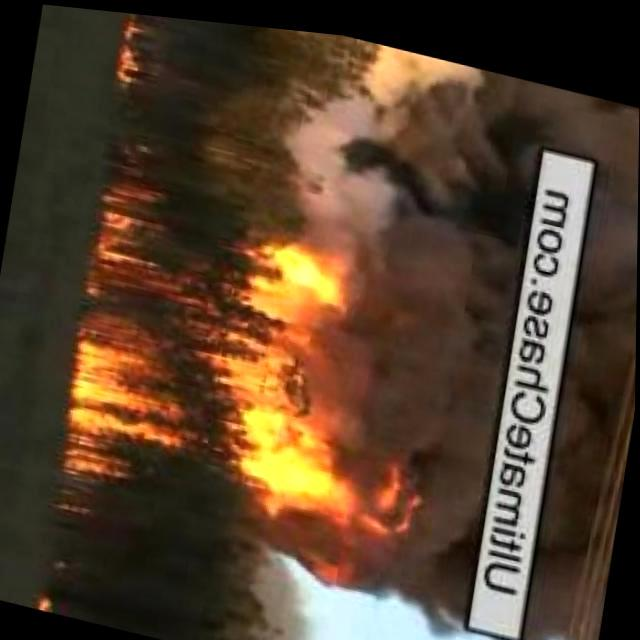fire: (52, 182, 460, 578), (116, 10, 156, 94)
